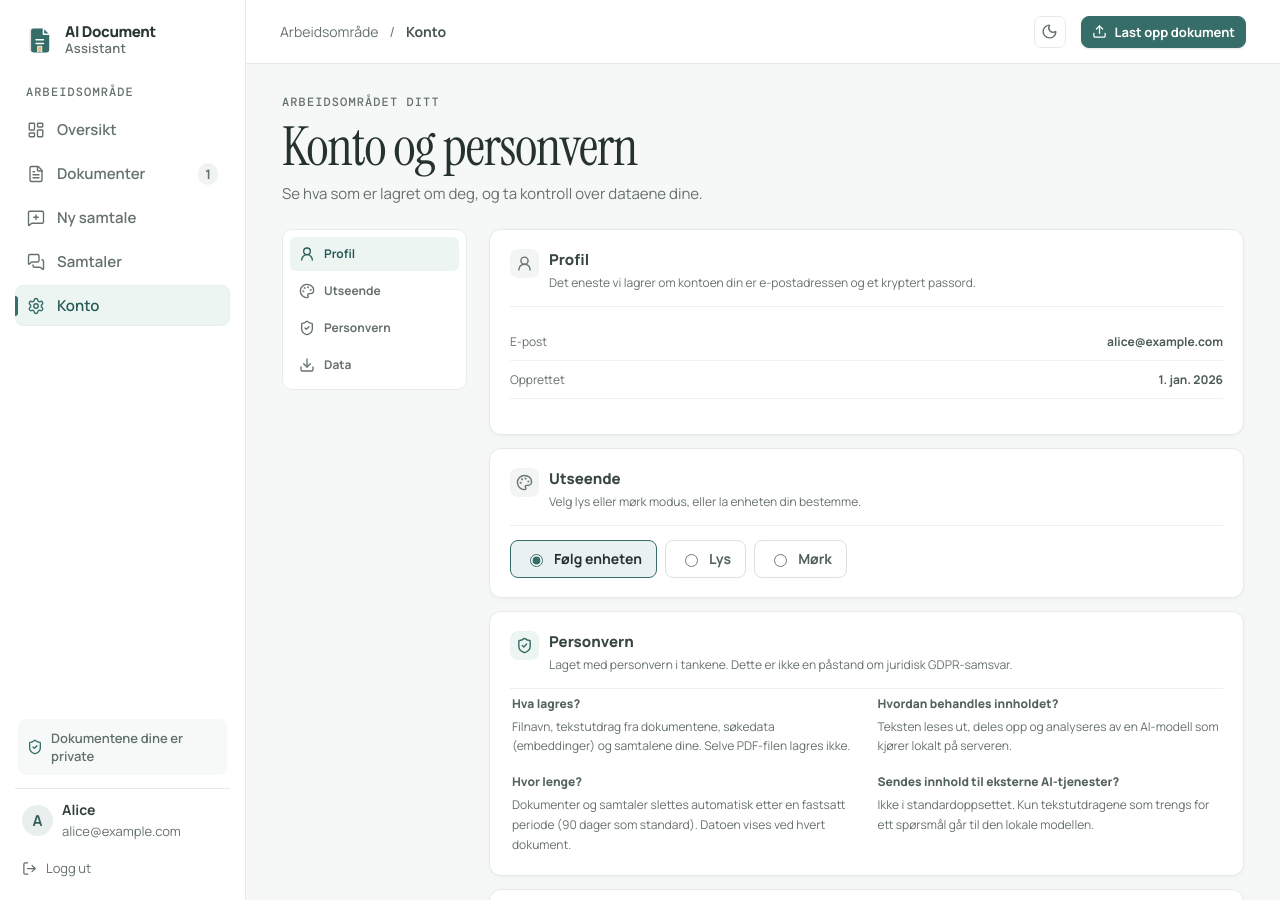
light and dark mode › keeps the top-bar button in step with the choice made on the account page
Check: the button named "Bytt til mørk modus" is shown, box left=1034, top=16, right=1066, bottom=48
Click the radio button labelled "Mørk".
click(781, 560)  # box left=774, top=554, right=787, bottom=567
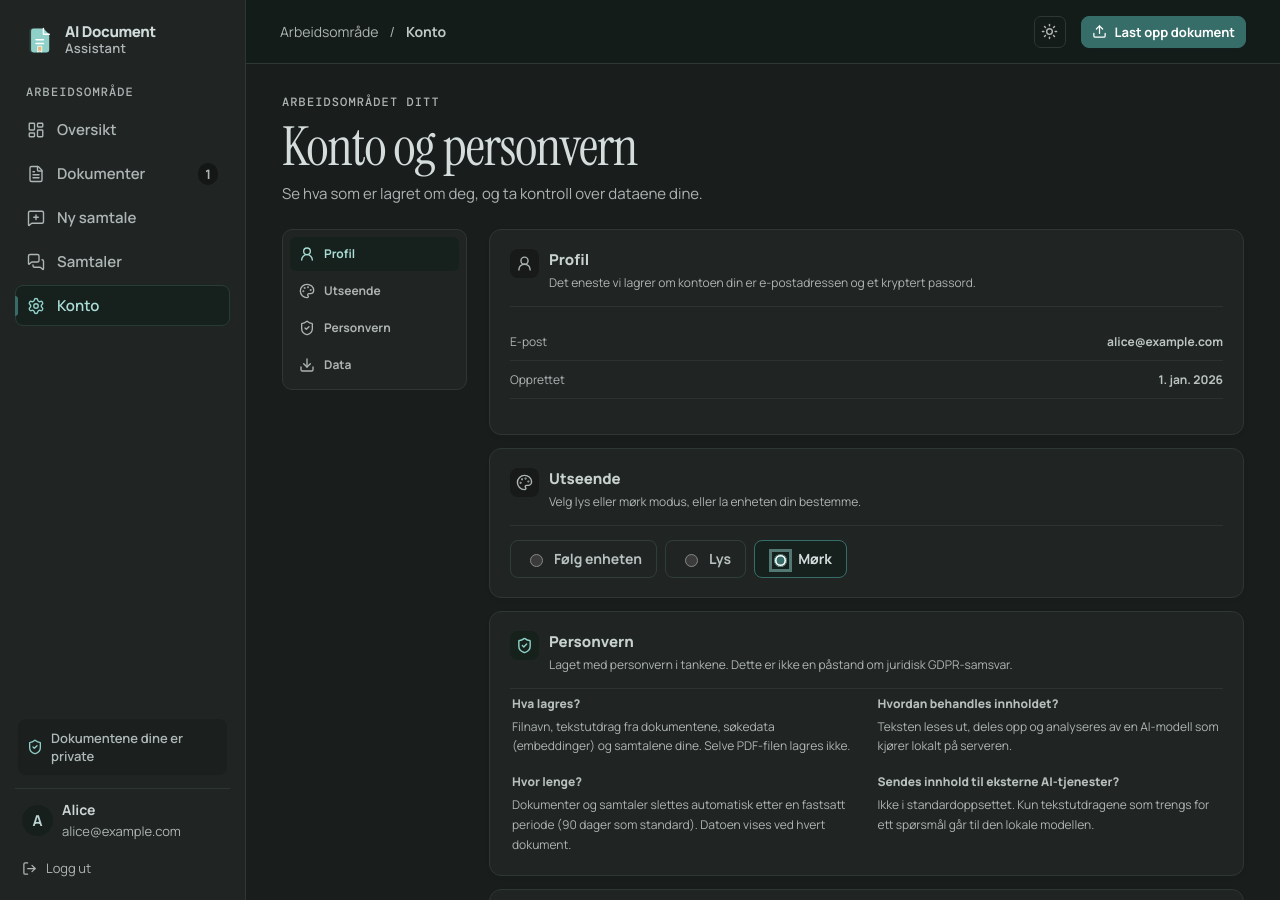
Check: the button named "Bytt til lys modus" is shown, box left=1034, top=16, right=1066, bottom=48
